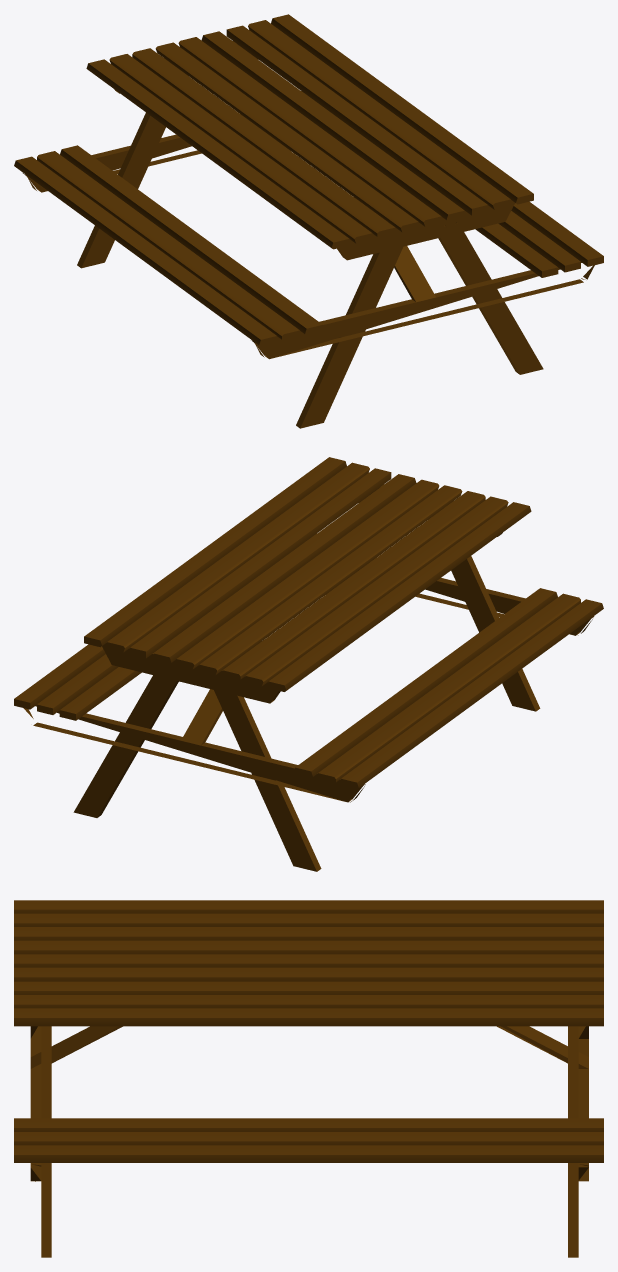
The model's file is table 1.fbx.
3 views of the same model, one above another, from view 1: azimuth 30°, elevation 25°; view 2: azimuth 150°, elevation 25°; view 3: azimuth 270°, elevation 25° (orthographic). The views are drawn at different scales.
Parts seen in each view (by area): view 1: Table2; view 2: Table2; view 3: Table2.
Boxes of the visible parts, left/top/right/bottom form: Table2: left=14, top=14, right=603, bottom=428; Table2: left=14, top=457, right=603, bottom=871; Table2: left=14, top=900, right=603, bottom=1257.
Size of the model in its own units: 232 by 121 by 285.
